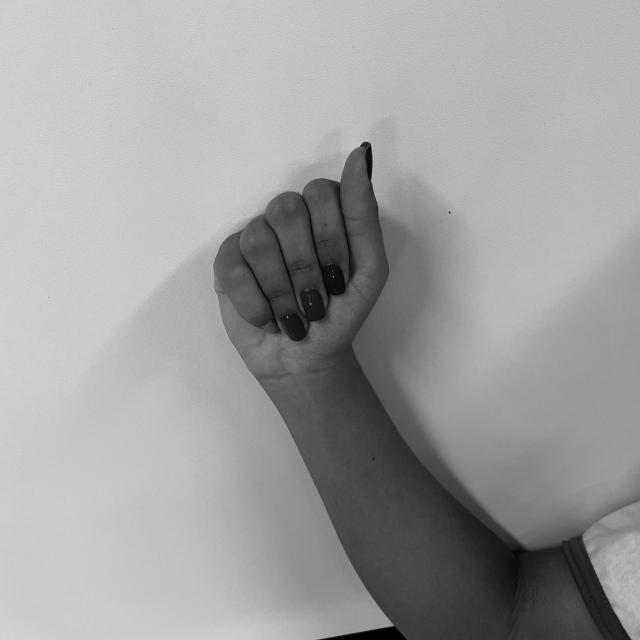Letra A: (204, 134, 399, 380)
